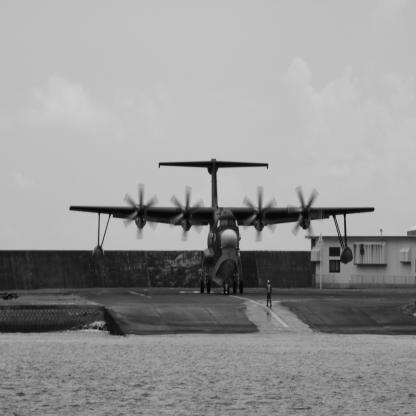US2: (70, 157, 376, 295)
